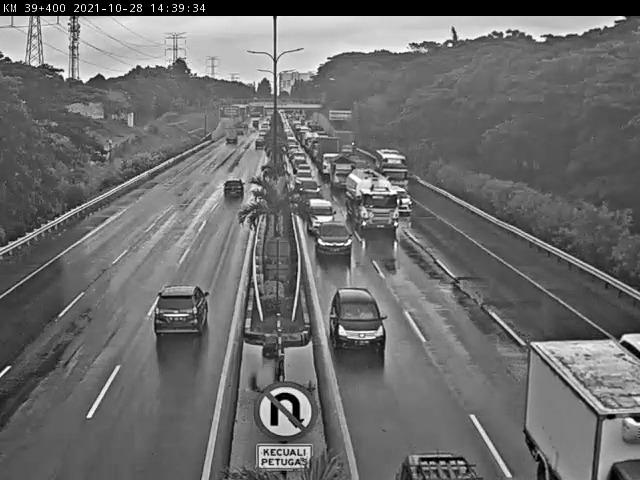big bus: (378, 147, 416, 186)
big truck: (343, 167, 395, 240)
car: (379, 434, 478, 480), (147, 276, 215, 342), (326, 282, 383, 348), (609, 312, 640, 363), (311, 222, 345, 265), (305, 195, 331, 229), (391, 187, 417, 217), (216, 180, 246, 202)
small truck: (509, 317, 640, 480)
